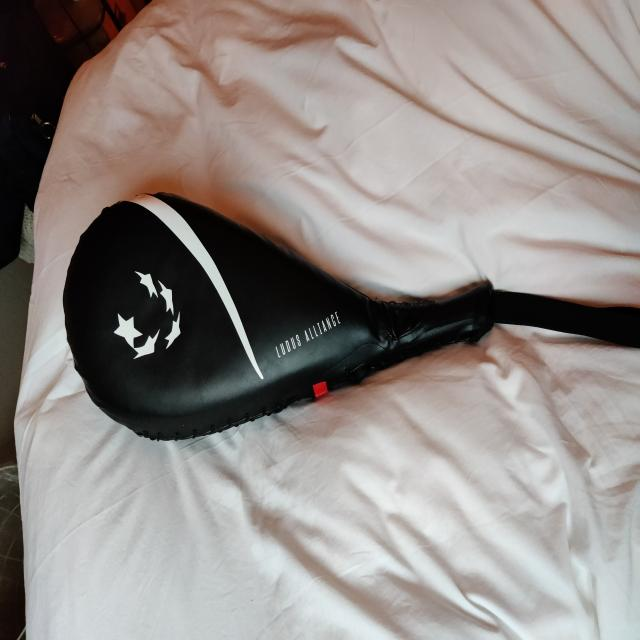paddle: (58, 187, 499, 447)
